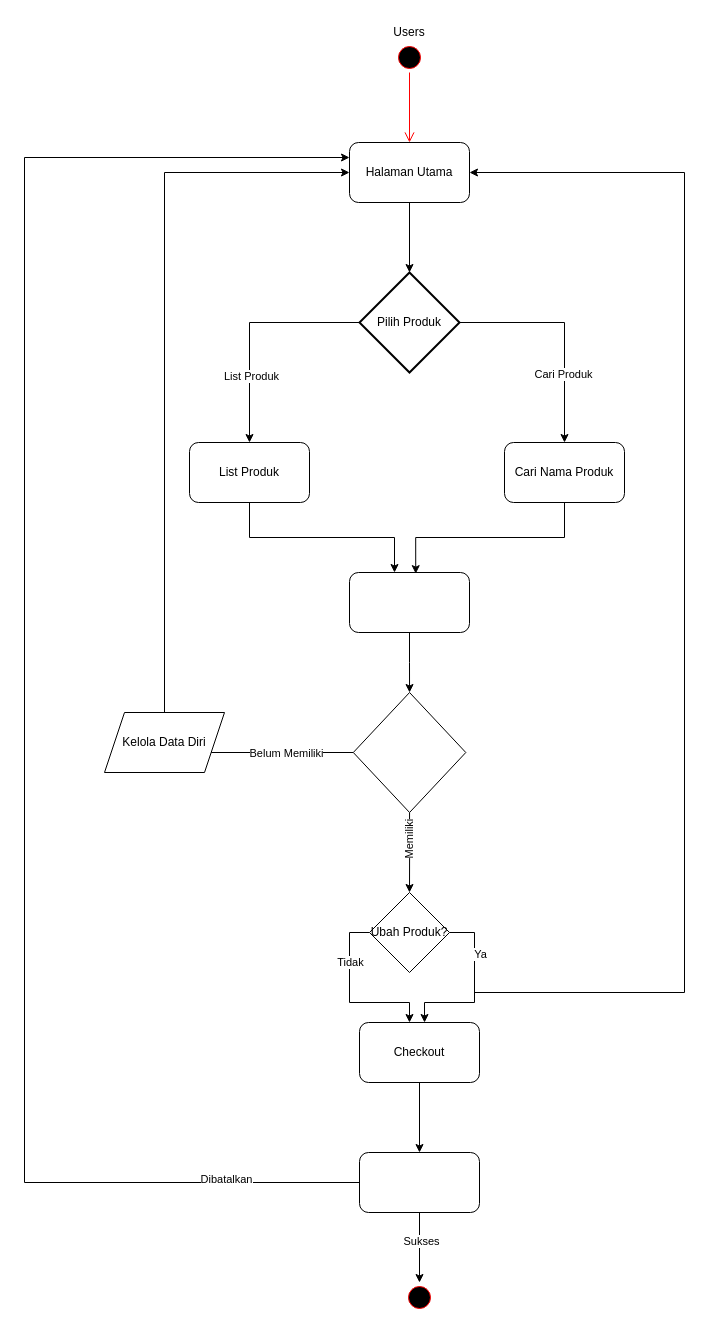
The diagram is 710 pixels wide and 1330 high, and some of its shapes have lost their labels. The shapes that lost their labels are listed below. From the top down, each one's centre as x and y in pixels, then its label:
At (409,602): "Tambahkan ke Keranjang".
At (409,752): "Data diri, alamat, no hp > 1?".
At (419,1182): "Pop up Pembayaran MIDTRANS".
